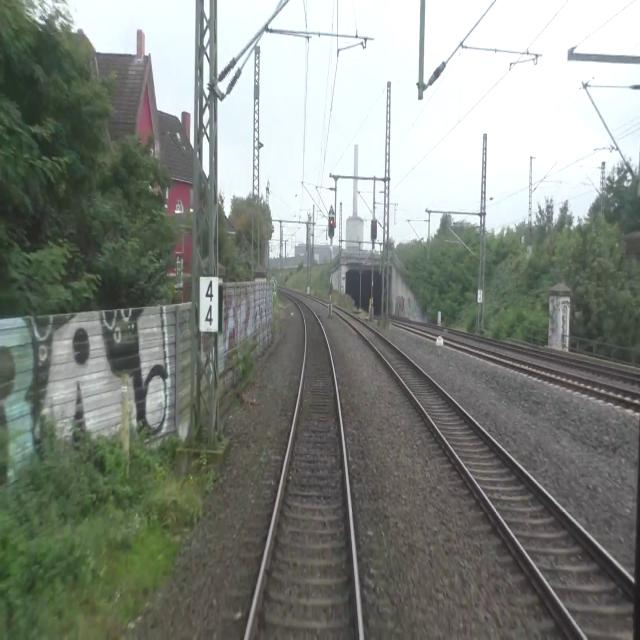rail-track: (335, 308, 640, 639), (248, 299, 359, 639), (459, 344, 640, 402)
